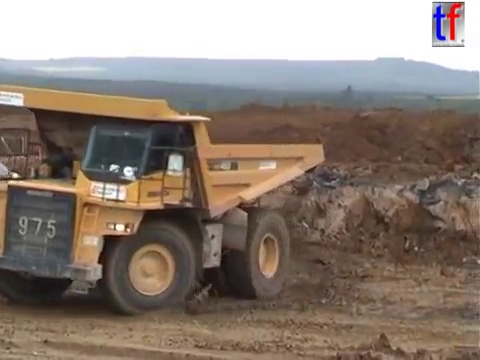truck: (1, 80, 329, 318)
